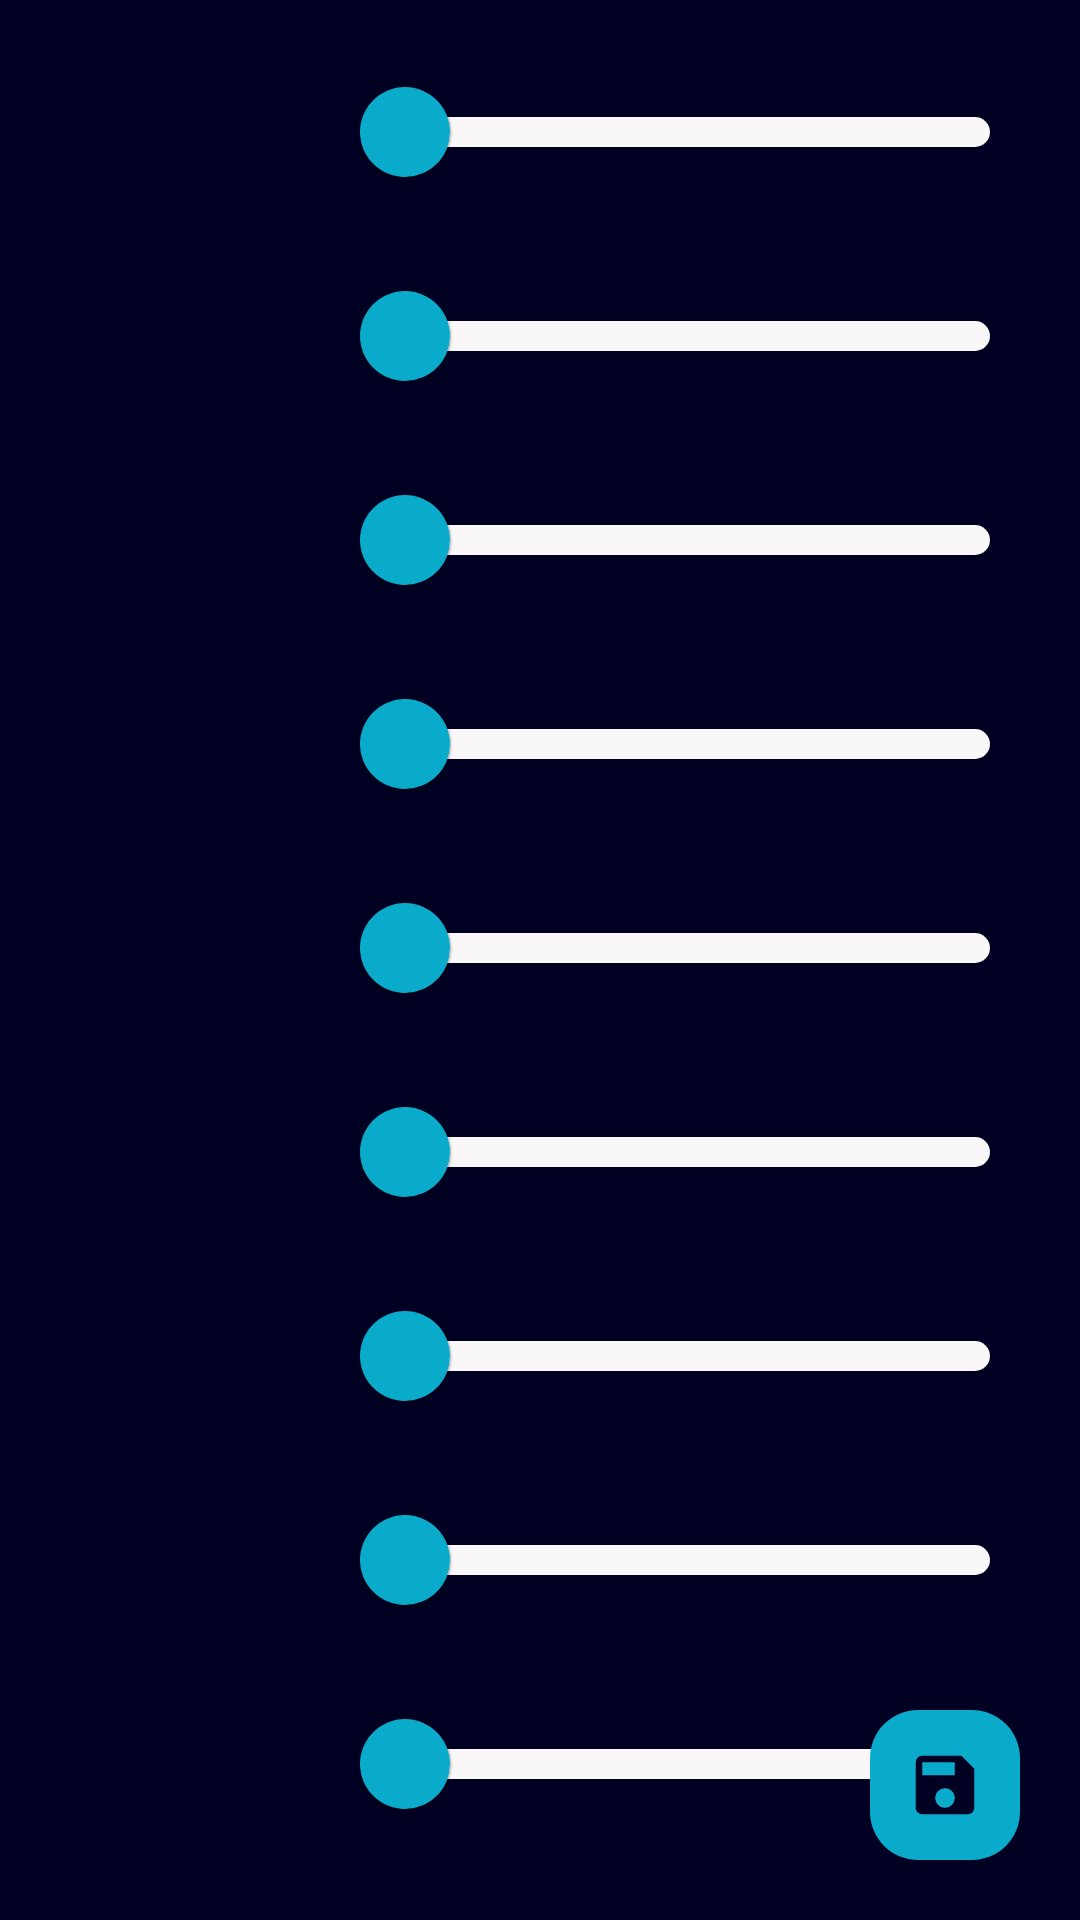

Screen size 1080px x 1920px. Icon name, then its box in pixels as (x1, y1, x2, y2):
Save: (870, 1710, 1020, 1860)
